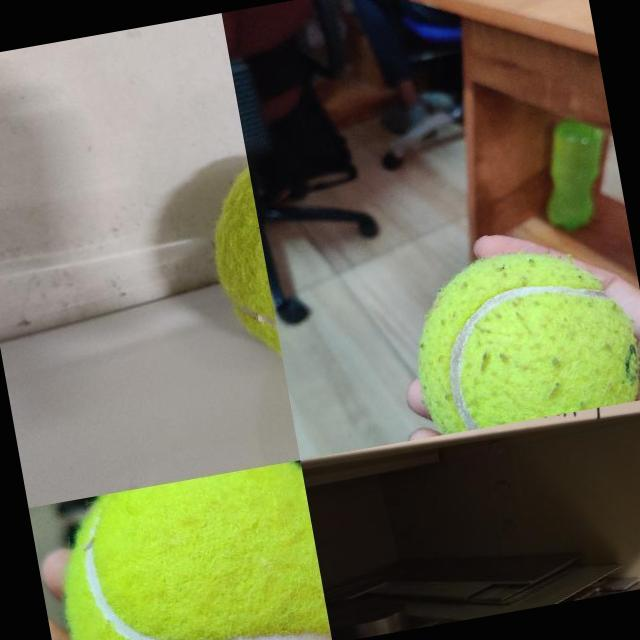Tennis Ball: (49, 460, 332, 640), (399, 233, 640, 436), (191, 138, 286, 388)
